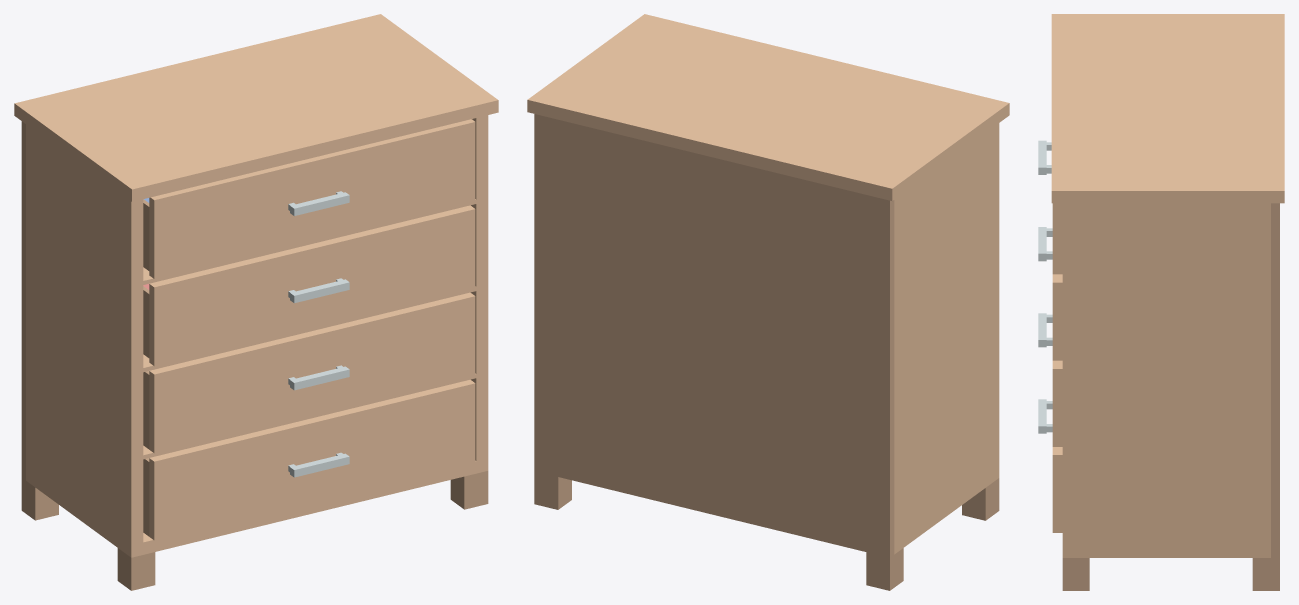
Rendered from chestOfDrawers.glb.
3 views of the same model, side by side, from view 1: azimuth 30°, elevation 25°; view 2: azimuth 150°, elevation 25°; view 3: azimuth 270°, elevation 25° (orthographic).
Visible parts, largest first — view 1: chestOfDrawers, anim:drawer2, anim:drawer1; view 2: chestOfDrawers; view 3: chestOfDrawers, anim:drawer2, anim:drawer1.
Part boxes in pixels (x1,y1,x2,y2): chestOfDrawers: [14, 14, 498, 590]; anim:drawer2: [143, 205, 475, 366]; anim:drawer1: [143, 119, 475, 278]; chestOfDrawers: [527, 14, 1009, 590]; chestOfDrawers: [1038, 14, 1284, 590]; anim:drawer2: [1038, 227, 1062, 360]; anim:drawer1: [1038, 140, 1062, 274].
Size of the model in its own units: 0.462 by 0.49 by 0.2715.
